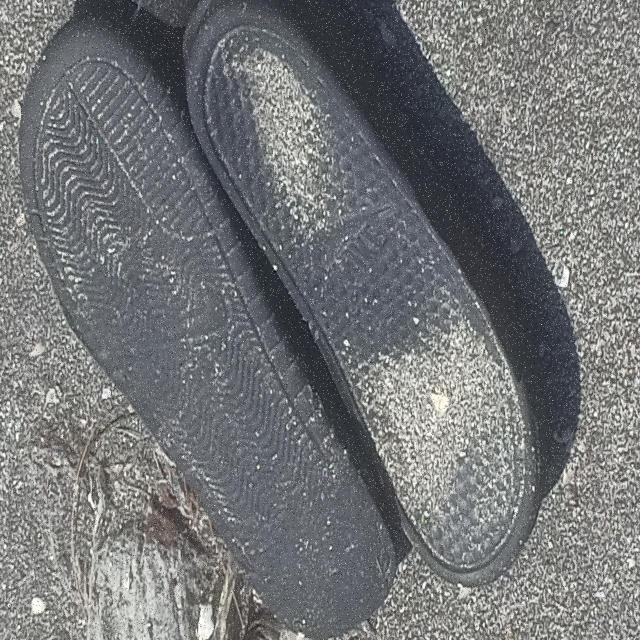rubber_waste: (20, 1, 547, 637)
